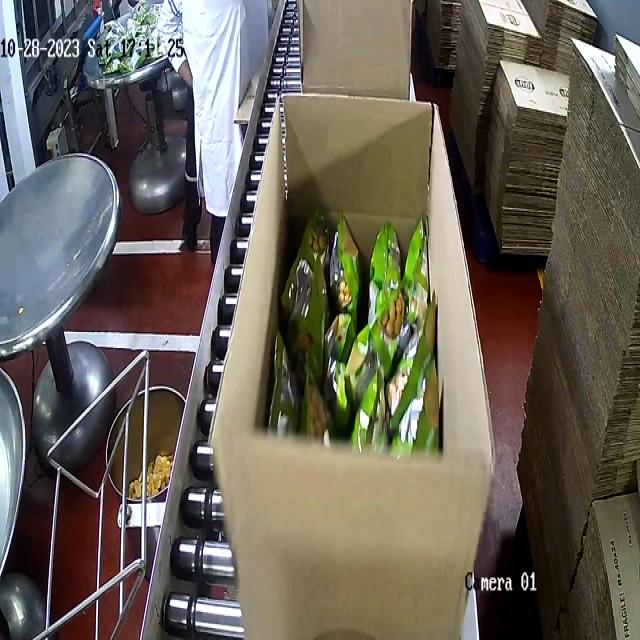YOGURT_HERB: (265, 207, 441, 456)
